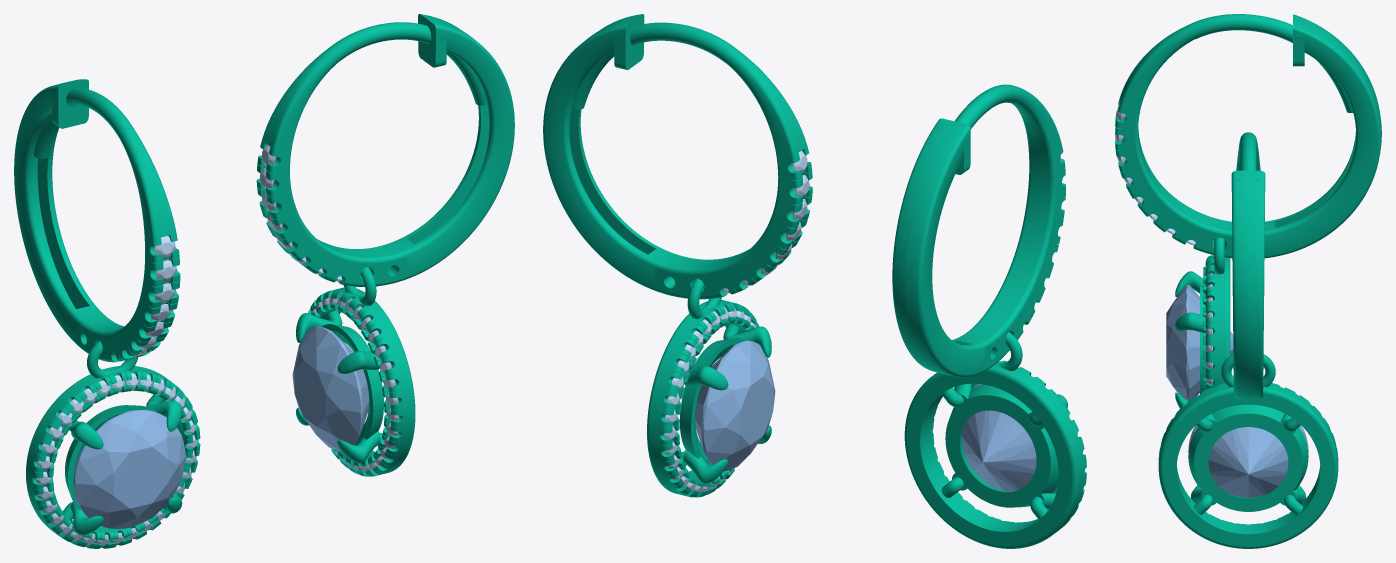
The picture shows the model from 3 angles, left to right: view 1: azimuth 30°, elevation 25°; view 2: azimuth 150°, elevation 25°; view 3: azimuth 270°, elevation 25°; orthographic projection. The views are drawn at different scales.
Visible parts, largest first — view 1: VEAR147.3dm, Diamond_Round (×2), Bezel (×2), Head Prong (×2); view 2: VEAR147.3dm, Diamond_Round (×2), Bezel (×2), Head Prong (×2); view 3: VEAR147.3dm, Diamond_Round (×2), Bezel (×2), Head Prong (×2).
Part boxes in pixels (bbox=[...]): VEAR147.3dm: bbox=[14, 14, 514, 548]; Diamond_Round (×2): bbox=[73, 326, 369, 528]; Bezel (×2): bbox=[65, 324, 383, 510]; Head Prong (×2): bbox=[337, 351, 380, 463]; VEAR147.3dm: bbox=[543, 14, 1086, 548]; Diamond_Round (×2): bbox=[695, 340, 1057, 492]; Bezel (×2): bbox=[680, 338, 1058, 507]; Head Prong (×2): bbox=[683, 366, 728, 483]; VEAR147.3dm: bbox=[1115, 14, 1381, 548]; Diamond_Round (×2): bbox=[1166, 285, 1308, 497]; Bezel (×2): bbox=[1188, 285, 1308, 511]; Head Prong (×2): bbox=[1175, 271, 1205, 333].
Bounding box in the file's own units: 2.85 × 2.42 × 1.42.
